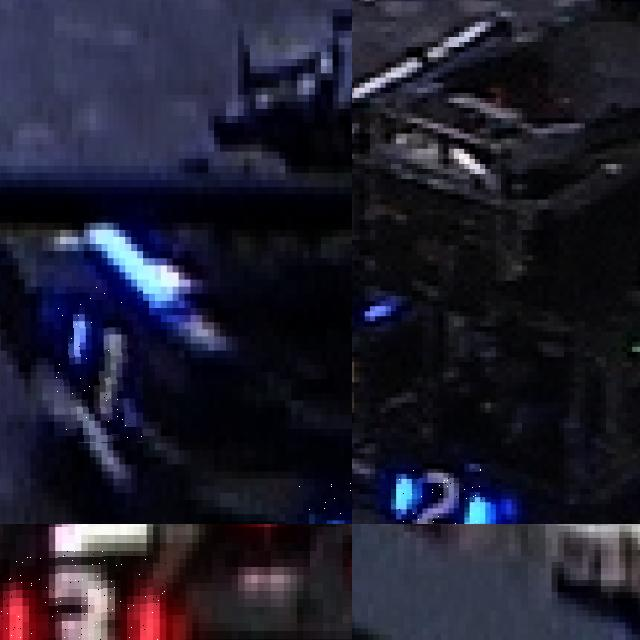B1: (54, 287, 143, 443)
B2: (396, 468, 490, 524)
R3: (0, 551, 166, 640)
